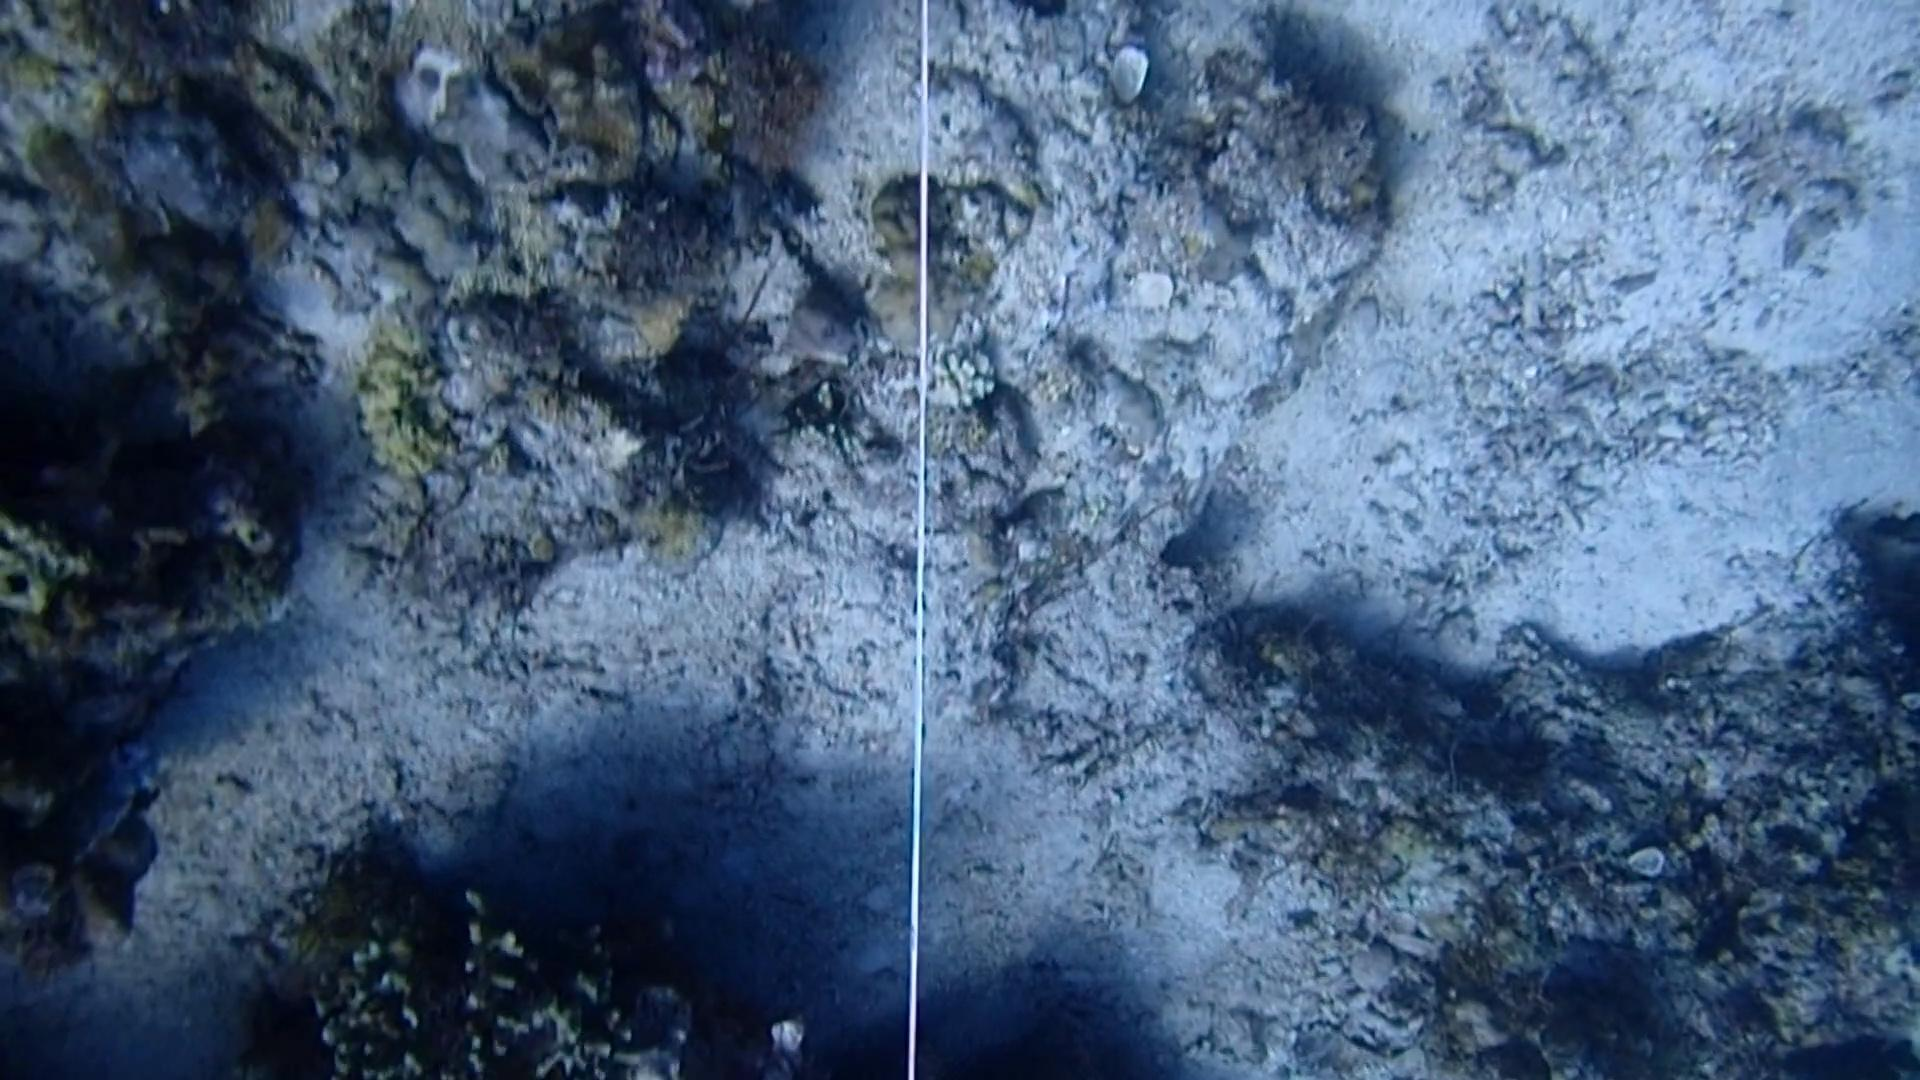Dark Fish: (1696, 894, 1751, 971)
